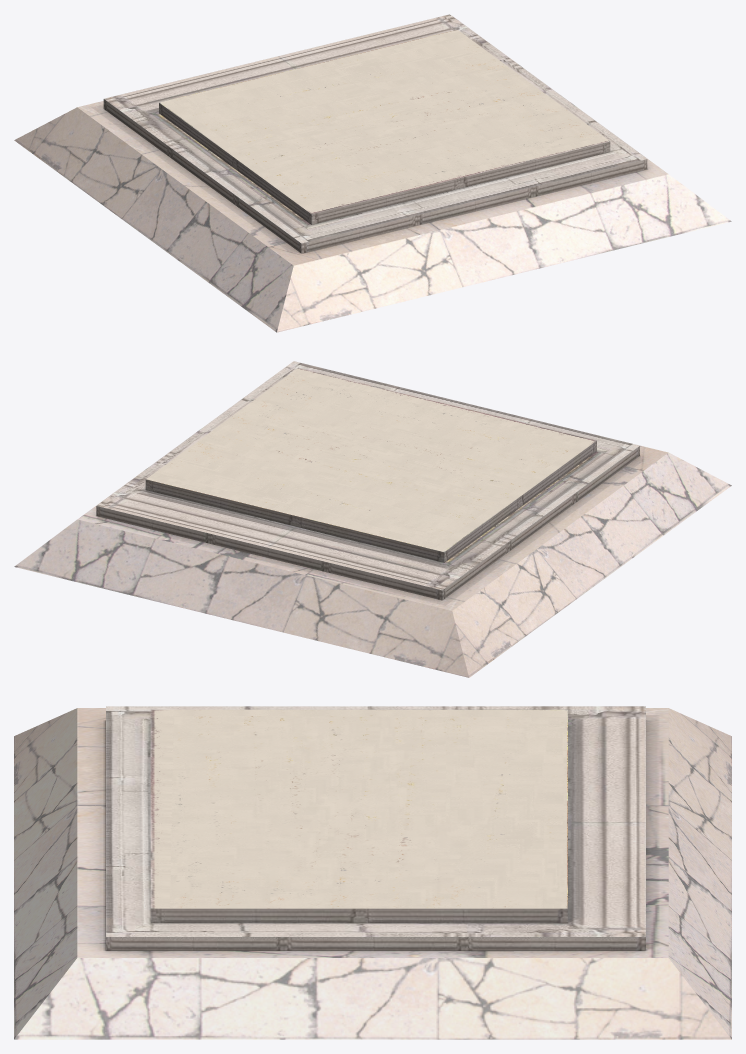
Rendered from pressureplate.glb.
The picture shows the model from 3 angles, top to bottom: view 1: azimuth 30°, elevation 25°; view 2: azimuth 150°, elevation 25°; view 3: azimuth 270°, elevation 25°; orthographic projection. The views are drawn at different scales.
Parts seen in each view (by area): view 1: pressure, base; view 2: pressure, base; view 3: pressure, base.
Part boxes in pixels (box(x1,y1,x2,y2)): pressure: box(103, 14, 647, 253); base: box(14, 16, 731, 332); pressure: box(96, 361, 639, 600); base: box(14, 361, 731, 677); pressure: box(106, 706, 645, 950); base: box(14, 708, 731, 1039).
Size of the model in its own units: 31.15 by 3.99 by 31.15.
2 materials, 2 textured.
